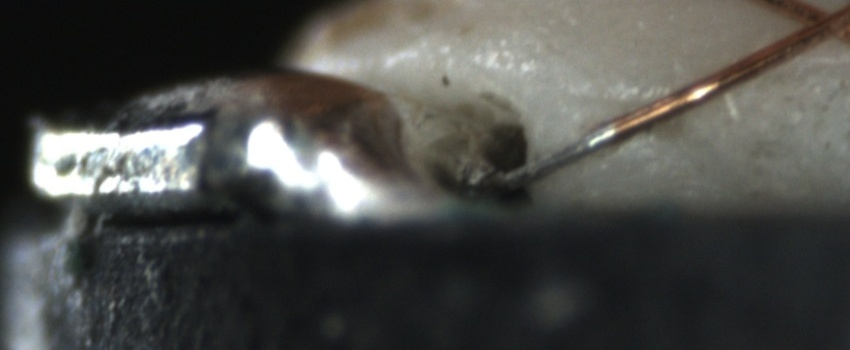CL: (779, 1, 849, 46)
DL: (567, 69, 671, 133)
TS: (494, 120, 619, 193)
